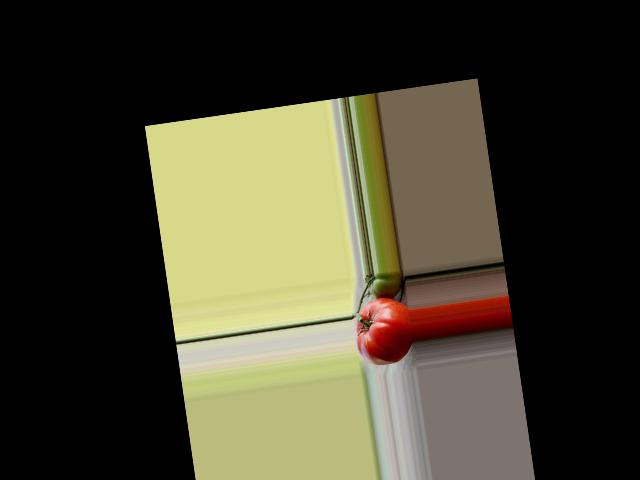tomato: (351, 294, 417, 369)
